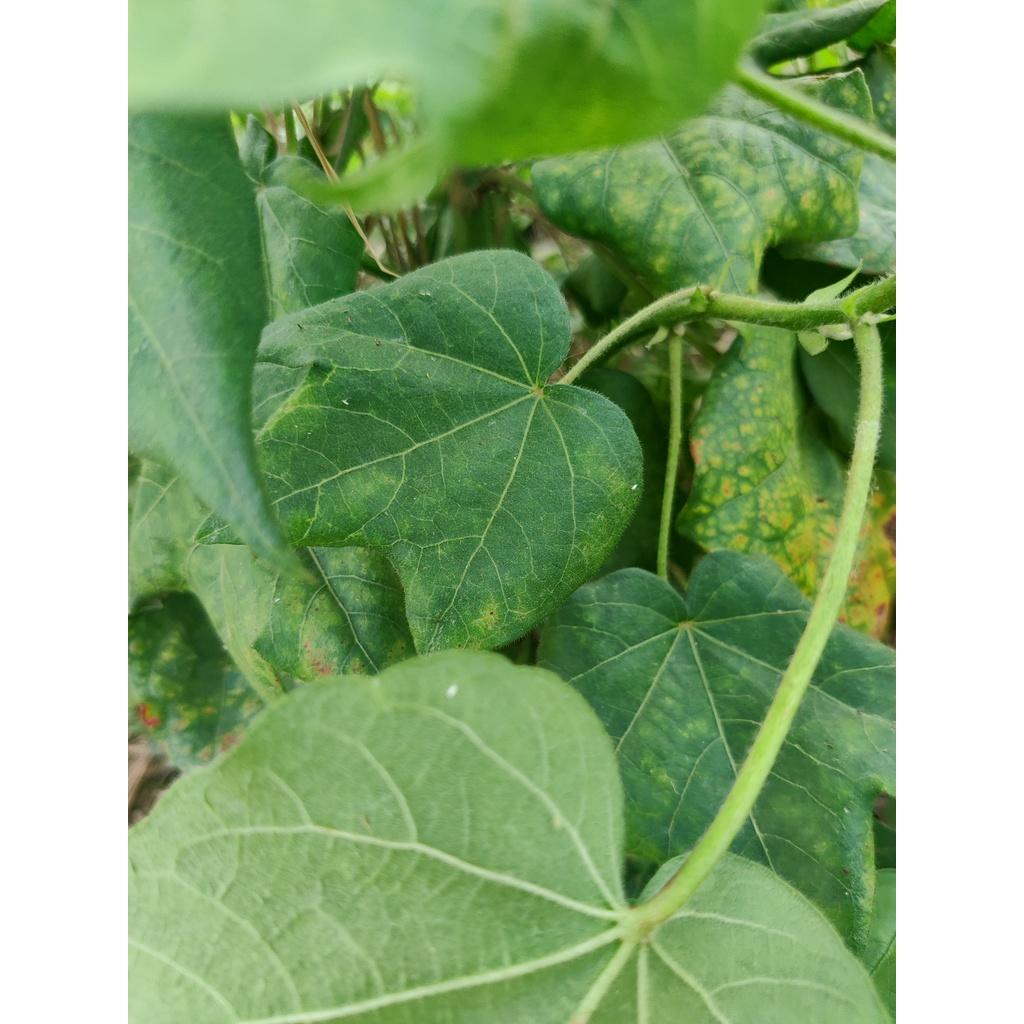adult: (445, 684, 458, 698), (843, 806, 850, 814), (341, 399, 350, 405), (631, 484, 638, 491), (425, 290, 431, 297), (274, 597, 280, 603), (425, 372, 430, 378), (420, 290, 425, 296)
